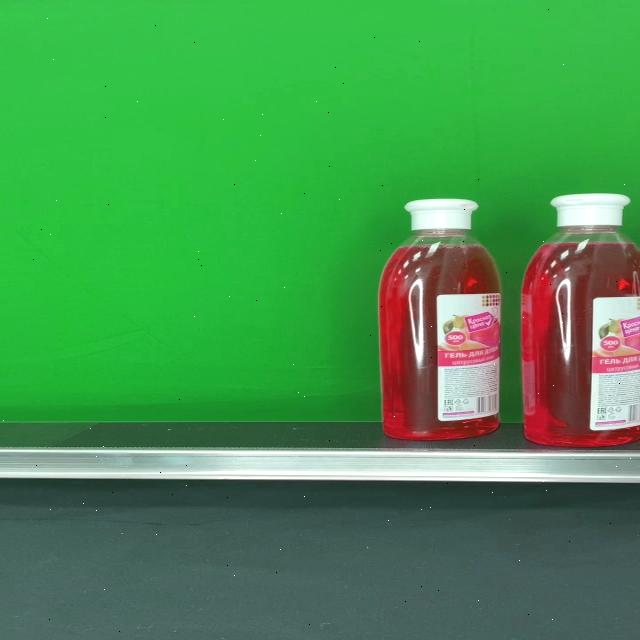Bottle: (520, 194, 640, 447), (381, 200, 501, 440)
Cap: (551, 194, 630, 227), (405, 199, 480, 229)
